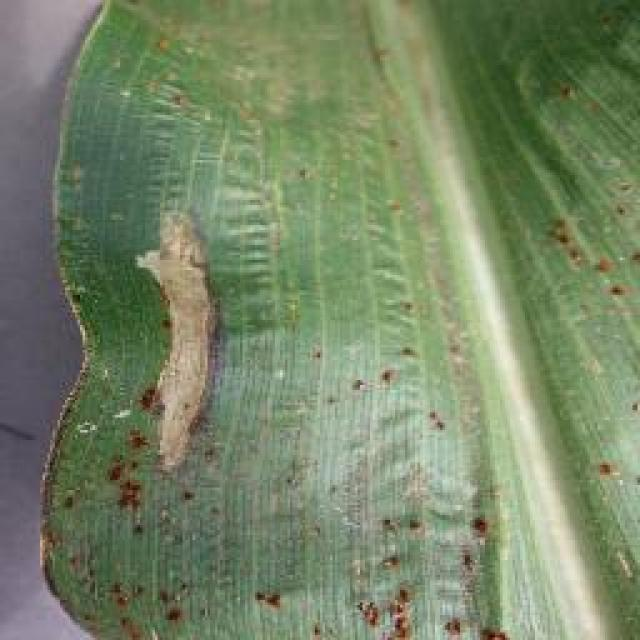Corn___Northern_Leaf_Blight: (125, 0, 640, 547)
